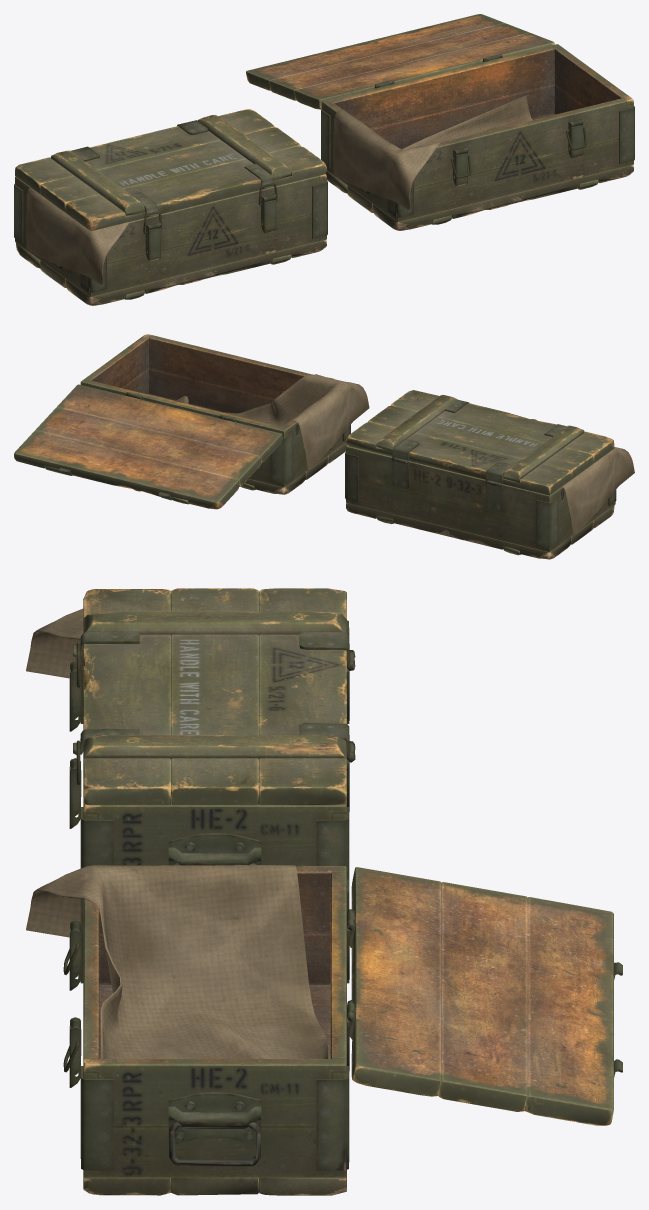
Rendered from old_military_crate.glb.
3 renders of one model, top to bottom at view 1: azimuth 30°, elevation 25°; view 2: azimuth 150°, elevation 25°; view 3: azimuth 270°, elevation 25°, orthographic. The views are drawn at different scales.
Parts seen in each view (by area): view 1: old_military_crate_b, old_military_crate_lid_a, old_military_crate_a, old_military_crate_lid_b, old_military_crate_cloth_b, old_military_crate_cloth_a, old_military_crate_latch_a, old_military_crate_latch_b; view 2: old_military_crate_lid_b, old_military_crate_lid_a, old_military_crate_a, old_military_crate_b, old_military_crate_cloth_b, old_military_crate_cloth_a; view 3: old_military_crate_lid_a, old_military_crate_lid_b, old_military_crate_b, old_military_crate_cloth_b, old_military_crate_a, old_military_crate_cloth_a, old_military_crate_latch_b, old_military_crate_latch_a.
Part boxes in pixels (left/top/right/bottom): old_military_crate_b: left=321, top=44, right=634, bottom=230; old_military_crate_lid_a: left=15, top=109, right=326, bottom=230; old_military_crate_a: left=14, top=174, right=327, bottom=305; old_military_crate_lid_b: left=246, top=14, right=554, bottom=109; old_military_crate_cloth_b: left=333, top=95, right=532, bottom=209; old_military_crate_cloth_a: left=25, top=187, right=129, bottom=284; old_military_crate_latch_a: left=145, top=194, right=276, bottom=261; old_military_crate_latch_b: left=453, top=119, right=583, bottom=186; old_military_crate_lid_b: left=14, top=384, right=282, bottom=509; old_military_crate_lid_a: left=346, top=390, right=614, bottom=495; old_military_crate_a: left=345, top=446, right=616, bottom=559; old_military_crate_b: left=80, top=334, right=350, bottom=494; old_military_crate_cloth_b: left=174, top=374, right=369, bottom=470; old_military_crate_cloth_a: left=562, top=447, right=634, bottom=535; old_military_crate_lid_a: left=73, top=588, right=355, bottom=805; old_military_crate_lid_b: left=347, top=867, right=622, bottom=1125; old_military_crate_b: left=80, top=866, right=354, bottom=1195; old_military_crate_cloth_b: left=26, top=865, right=329, bottom=1058; old_military_crate_a: left=80, top=620, right=355, bottom=886; old_military_crate_cloth_a: left=26, top=608, right=83, bottom=678; old_military_crate_latch_b: left=69, top=920, right=81, bottom=1087; old_military_crate_latch_a: left=69, top=661, right=81, bottom=828.
Bounding box in the file's own units: 1.82 × 0.3009 × 0.9744.
1 material, 1 textured.
